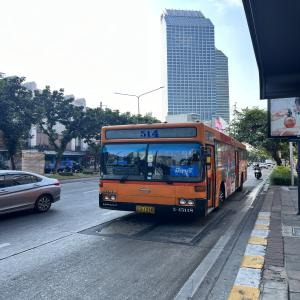BMTA-bus: (94, 120, 249, 220)
Bus Line Number: (136, 128, 162, 138)
Bus Side Number: (172, 207, 195, 213)
Destination Sign: (169, 164, 200, 177)
